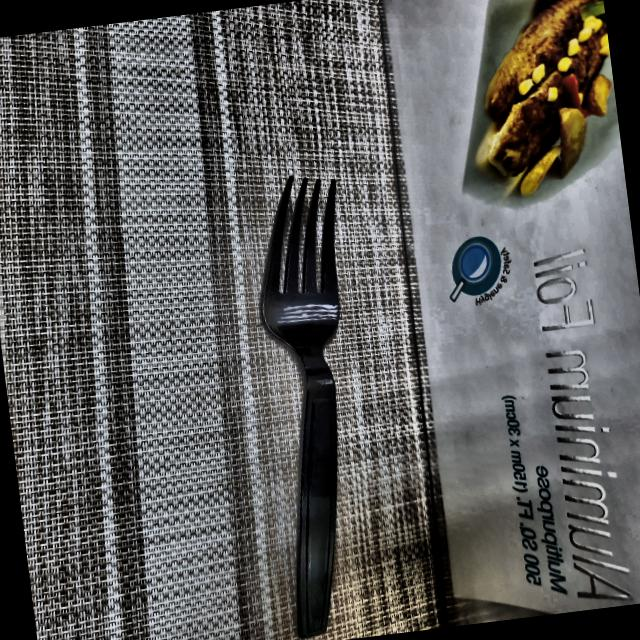plastic utensil: (236, 169, 392, 640)
